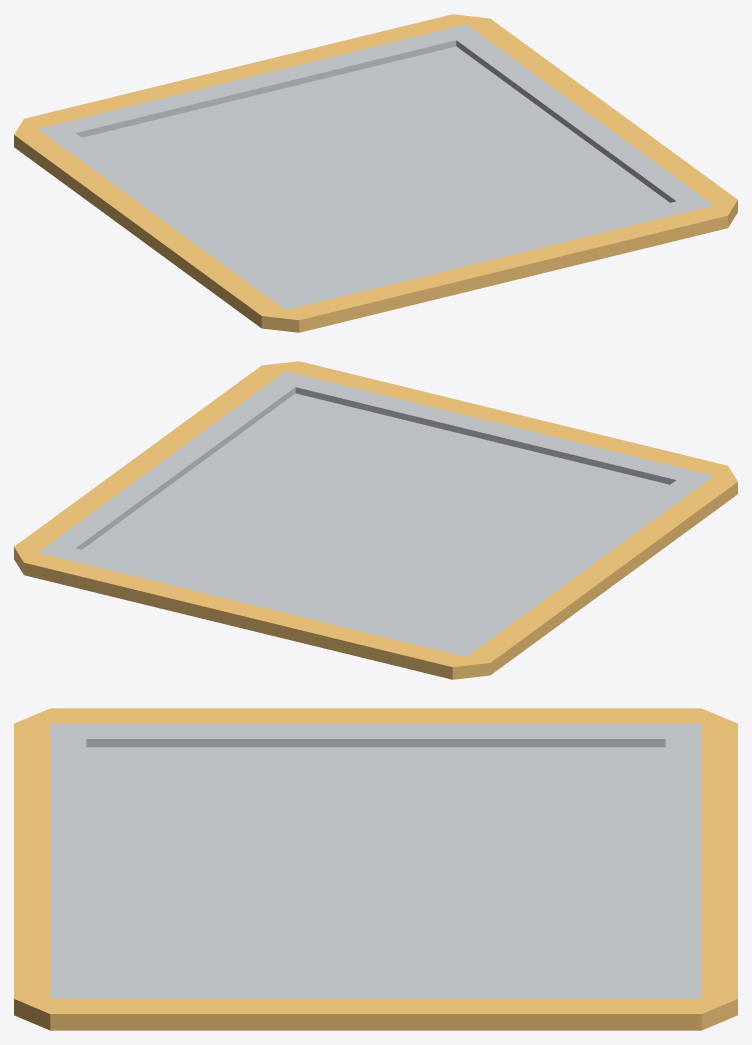
Rendered from platform.glb.
3 views of the same model, one above another, from view 1: azimuth 30°, elevation 25°; view 2: azimuth 150°, elevation 25°; view 3: azimuth 270°, elevation 25° (orthographic). The views are drawn at different scales.
Parts seen in each view (by area): view 1: platform_large; view 2: platform_large; view 3: platform_large.
Boxes of the visible parts, box(x1,y1,x2,y2) form: platform_large: box(14, 14, 737, 332); platform_large: box(14, 361, 737, 679); platform_large: box(14, 708, 737, 1030).
Bounding box in the file's own units: 1.01 × 0.0253 × 1.01.
